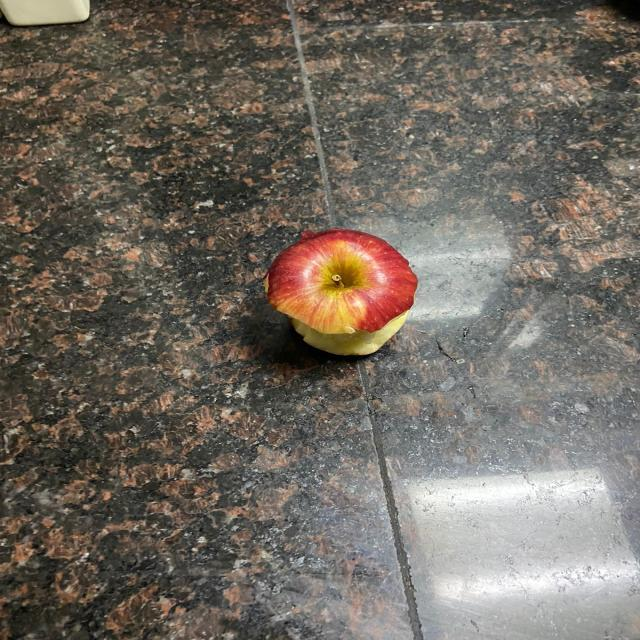apple: (263, 222, 422, 362)
